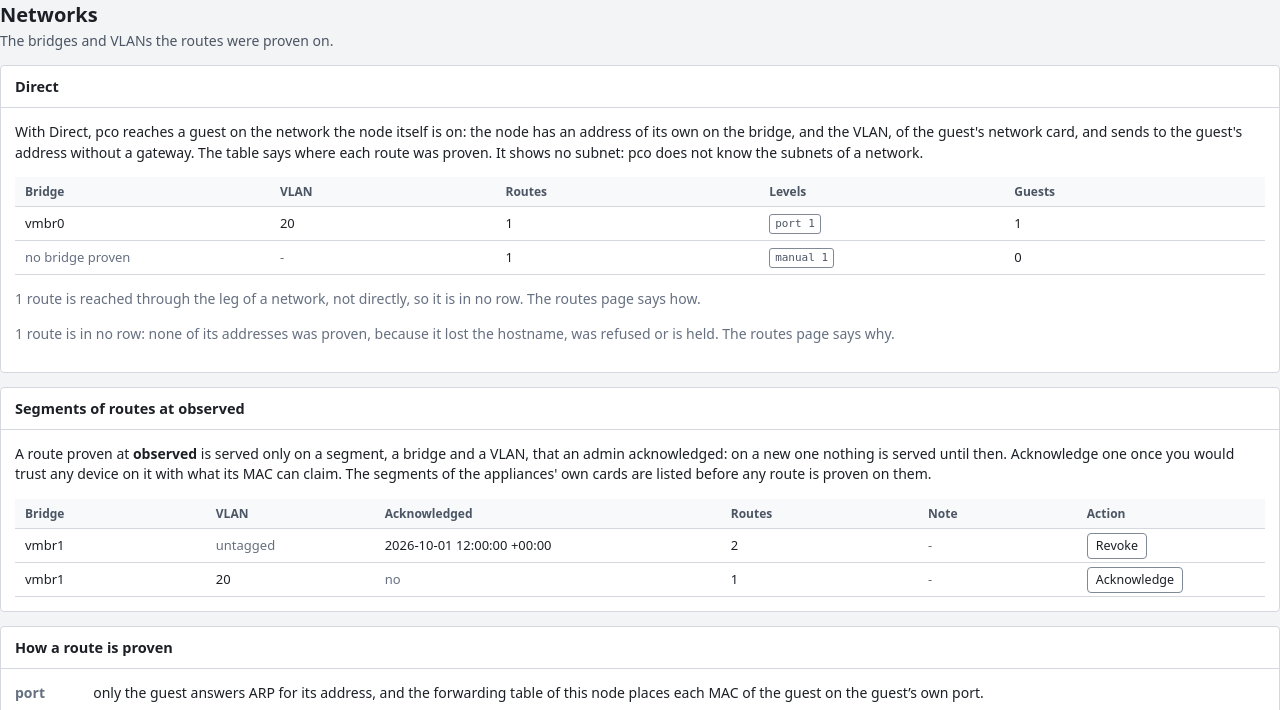
the Direct table › a row opens the routes and the guests of its network
Click the text "vmbr0" at (45, 224), box [25, 214, 65, 232]
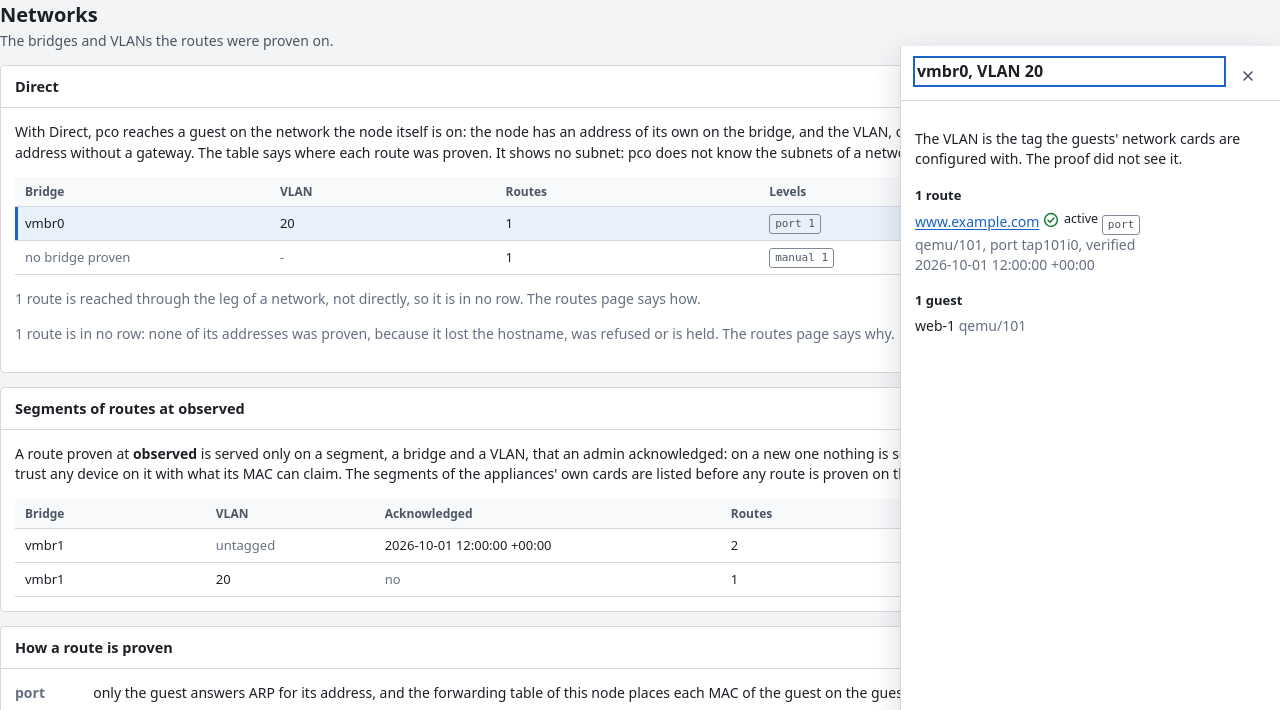
Check: the heading "vmbr0, VLAN 20" is shown, box [917, 60, 1043, 82]
Check: the heading "1 guest" is shown, box [915, 291, 962, 309]
Check: the text "web-1" is shown, box [915, 316, 955, 335]
